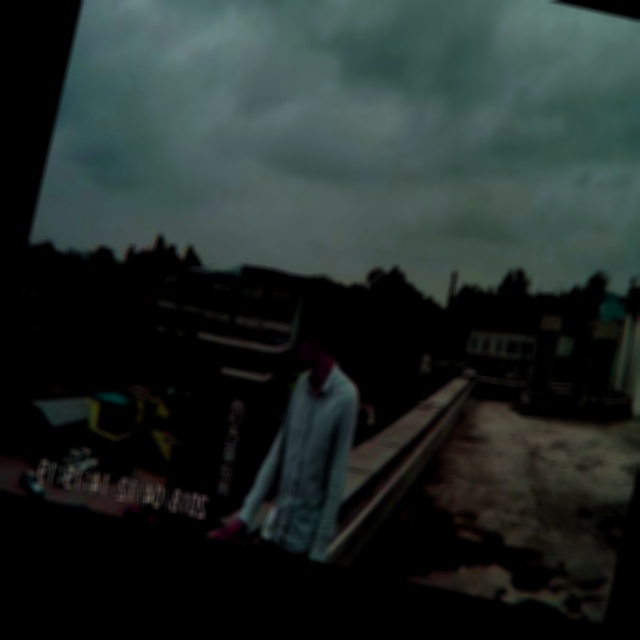Sin_Chaleco: (253, 363, 368, 554)
